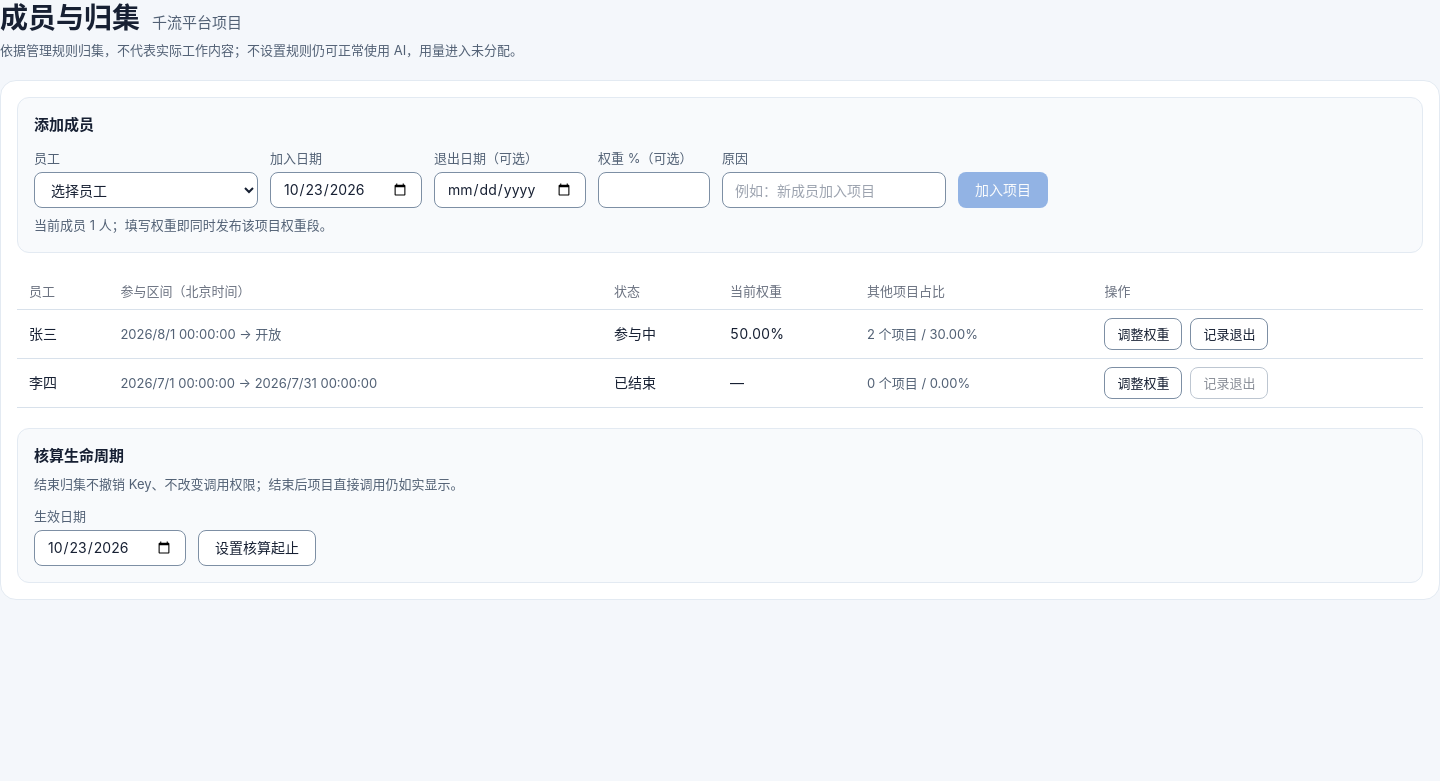
项目成员与归集页面 › 预览发现冲突时展示明细并禁用发布
Click the button "调整权重" in the row of "张三" at coordinates (1143, 334), box 1104,318 -> 1182,350
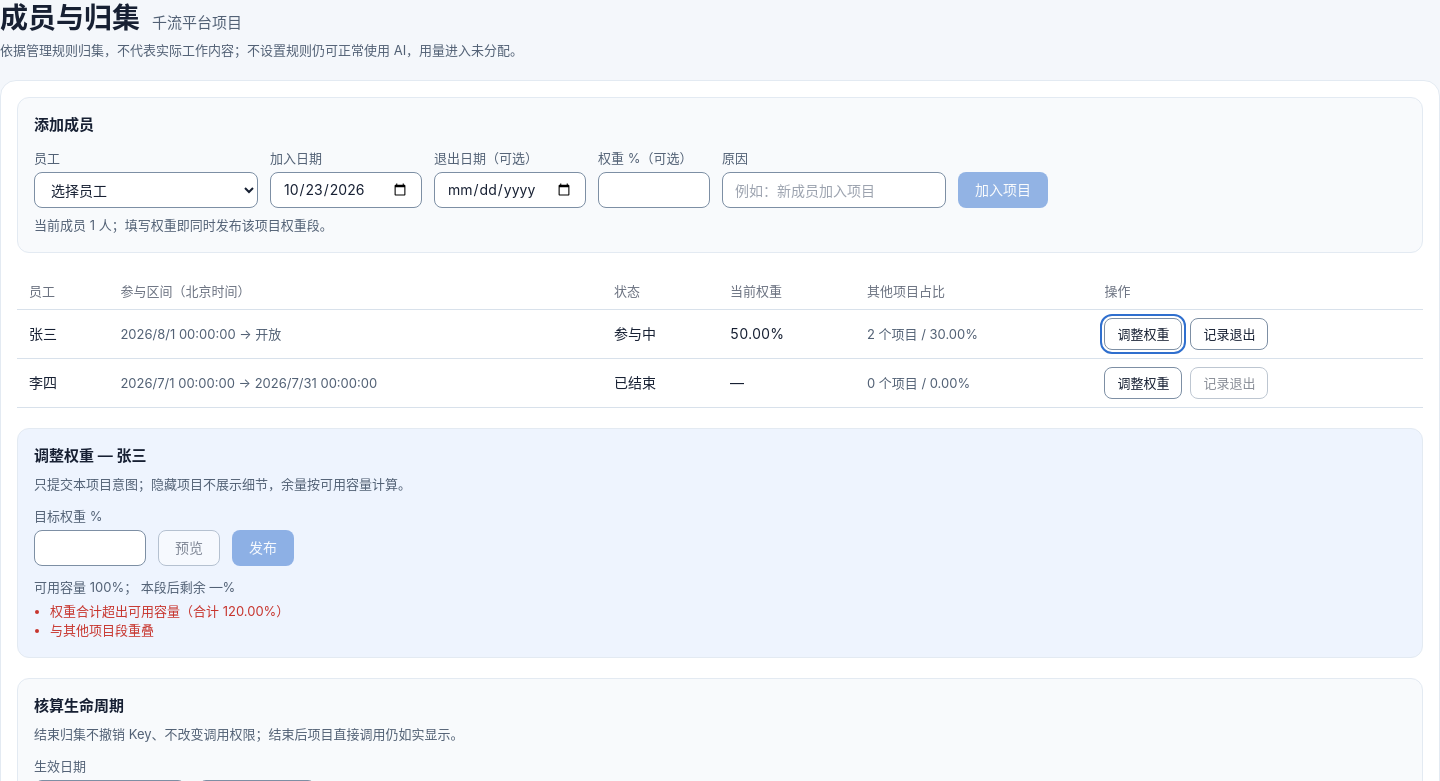
Result: the list item "权重合计超出可用容量（合计 120.00%）" is shown at 50,602 -> 289,618
Result: the text "可用容量 100%； 本段后剩余 —%" is shown at 34,579 -> 235,595
Result: the button "发布" is disabled at 232,530 -> 294,566
